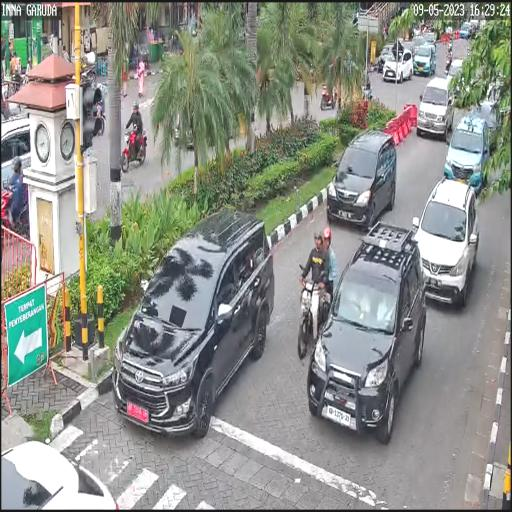mobil: (109, 208, 276, 446), (307, 225, 432, 444), (408, 175, 478, 310), (324, 122, 398, 234), (442, 115, 488, 190), (418, 78, 454, 140)
motor: (293, 245, 337, 368)
